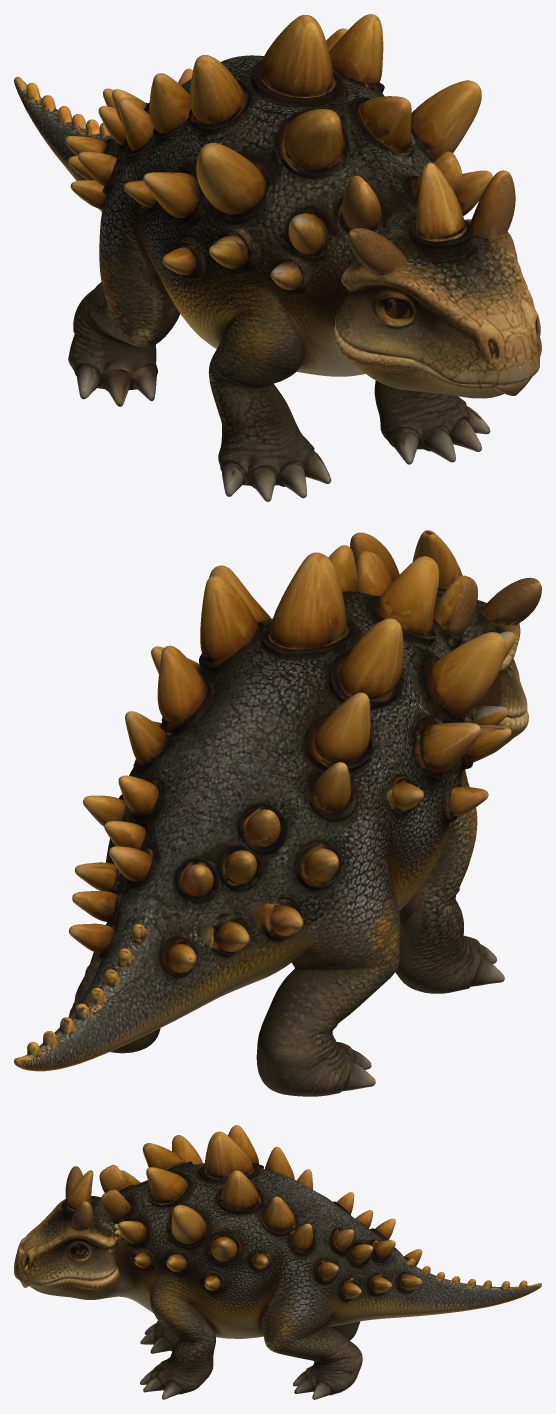
The model's file is dinosaurio.glb.
The picture shows the model from 3 angles, top to bottom: view 1: azimuth 30°, elevation 25°; view 2: azimuth 150°, elevation 25°; view 3: azimuth 270°, elevation 25°; orthographic projection. The views are drawn at different scales.
Parts seen in each view (by area): view 1: texture_pbr_v128; view 2: texture_pbr_v128; view 3: texture_pbr_v128.
Boxes of the visible parts, x1,y1,x2,y2 form: texture_pbr_v128: [14, 14, 541, 501]; texture_pbr_v128: [14, 530, 541, 1096]; texture_pbr_v128: [14, 1125, 541, 1399].
Size of the model in its own units: 0.4532 by 0.5749 by 1.19.
1 material, 1 textured.
